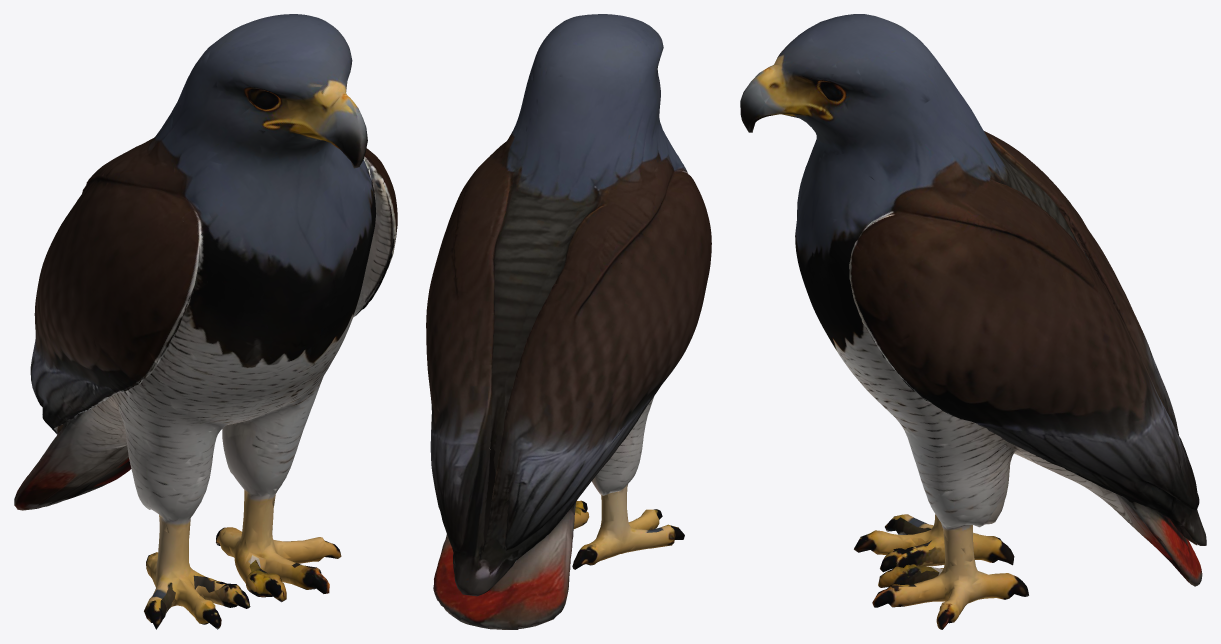
Rendered from aguila_mora.glb.
3 renders of one model, left to right at view 1: azimuth 30°, elevation 25°; view 2: azimuth 150°, elevation 25°; view 3: azimuth 270°, elevation 25°, orthographic. The views are drawn at different scales.
Visible parts, largest first — view 1: aguila_mora; view 2: aguila_mora; view 3: aguila_mora.
Part boxes in pixels (x1=…): aguila_mora: x1=14, y1=14, x2=397, y2=629; aguila_mora: x1=426, y1=14, x2=711, y2=629; aguila_mora: x1=740, y1=14, x2=1206, y2=629.
Bounding box in the file's own units: 0.3472 × 0.68 × 0.5123.
Materials: 1 (1 with a texture image).
